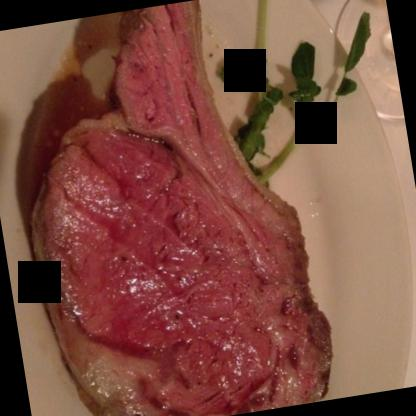beef: (0, 0, 343, 415)
